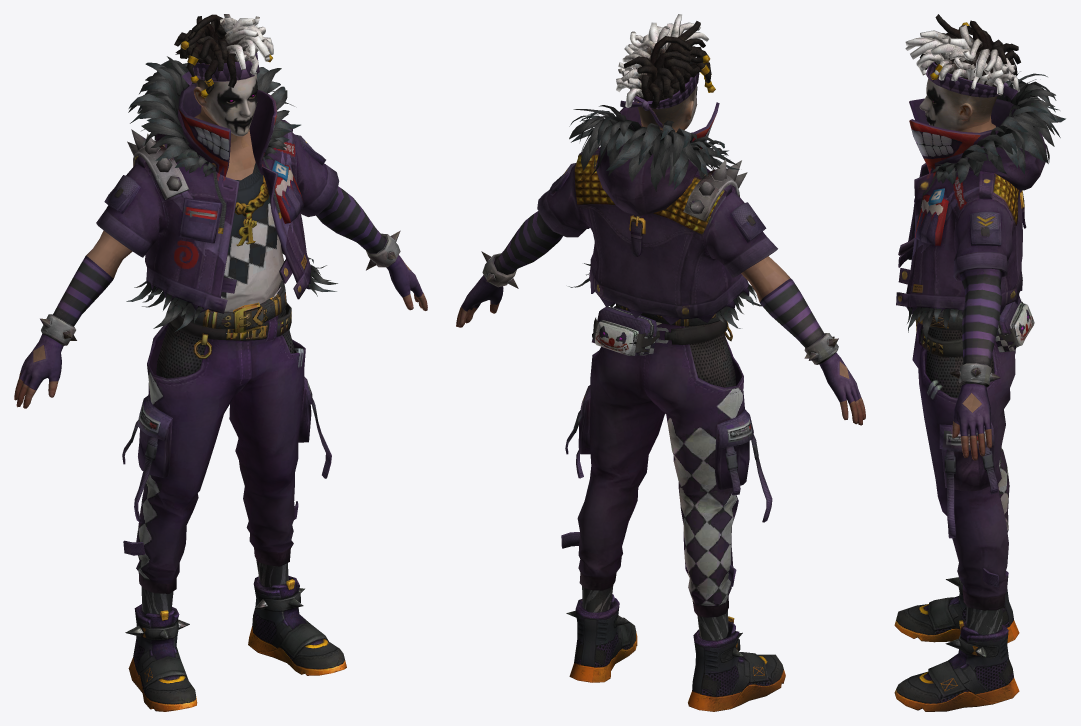
Rendered from free_fire_demented_maniac_bundle.glb.
3 views of the same model, side by side, from view 1: azimuth 30°, elevation 25°; view 2: azimuth 150°, elevation 25°; view 3: azimuth 270°, elevation 25° (orthographic). The views are drawn at different scales.
Parts seen in each view (by area): view 1: Object_7, Object_6, Object_5, Object_3, Object_8, Object_2, Object_4; view 2: Object_6, Object_7, Object_5, Object_3, Object_8, Object_2, Object_4; view 3: Object_7, Object_6, Object_5, Object_3, Object_8, Object_4, Object_2.
Boxes of the visible parts, box(x1,y1,x2,y2) form: Object_7: box(19, 83, 422, 390); Object_6: box(122, 280, 331, 614); Object_5: box(125, 575, 346, 711); Object_3: box(126, 53, 337, 332); Object_8: box(174, 14, 273, 97); Object_2: box(14, 106, 427, 408); Object_4: box(193, 74, 257, 136); Object_6: box(561, 303, 772, 640); Object_7: box(461, 102, 861, 403); Object_5: box(566, 594, 785, 711); Object_3: box(568, 105, 761, 328); Object_8: box(616, 14, 715, 127); Object_2: box(456, 125, 865, 425); Object_4: box(637, 85, 697, 131); Object_7: box(896, 98, 1046, 436); Object_6: box(912, 295, 1034, 634); Object_5: box(894, 571, 1019, 711); Object_3: box(907, 71, 1065, 339); Object_8: box(905, 14, 1020, 100); Object_4: box(919, 79, 997, 131); Object_2: box(952, 116, 995, 460).
Bounding box in the file's own units: 0.9784 × 1.52 × 0.3667.
Materials: 7 (7 with a texture image).
